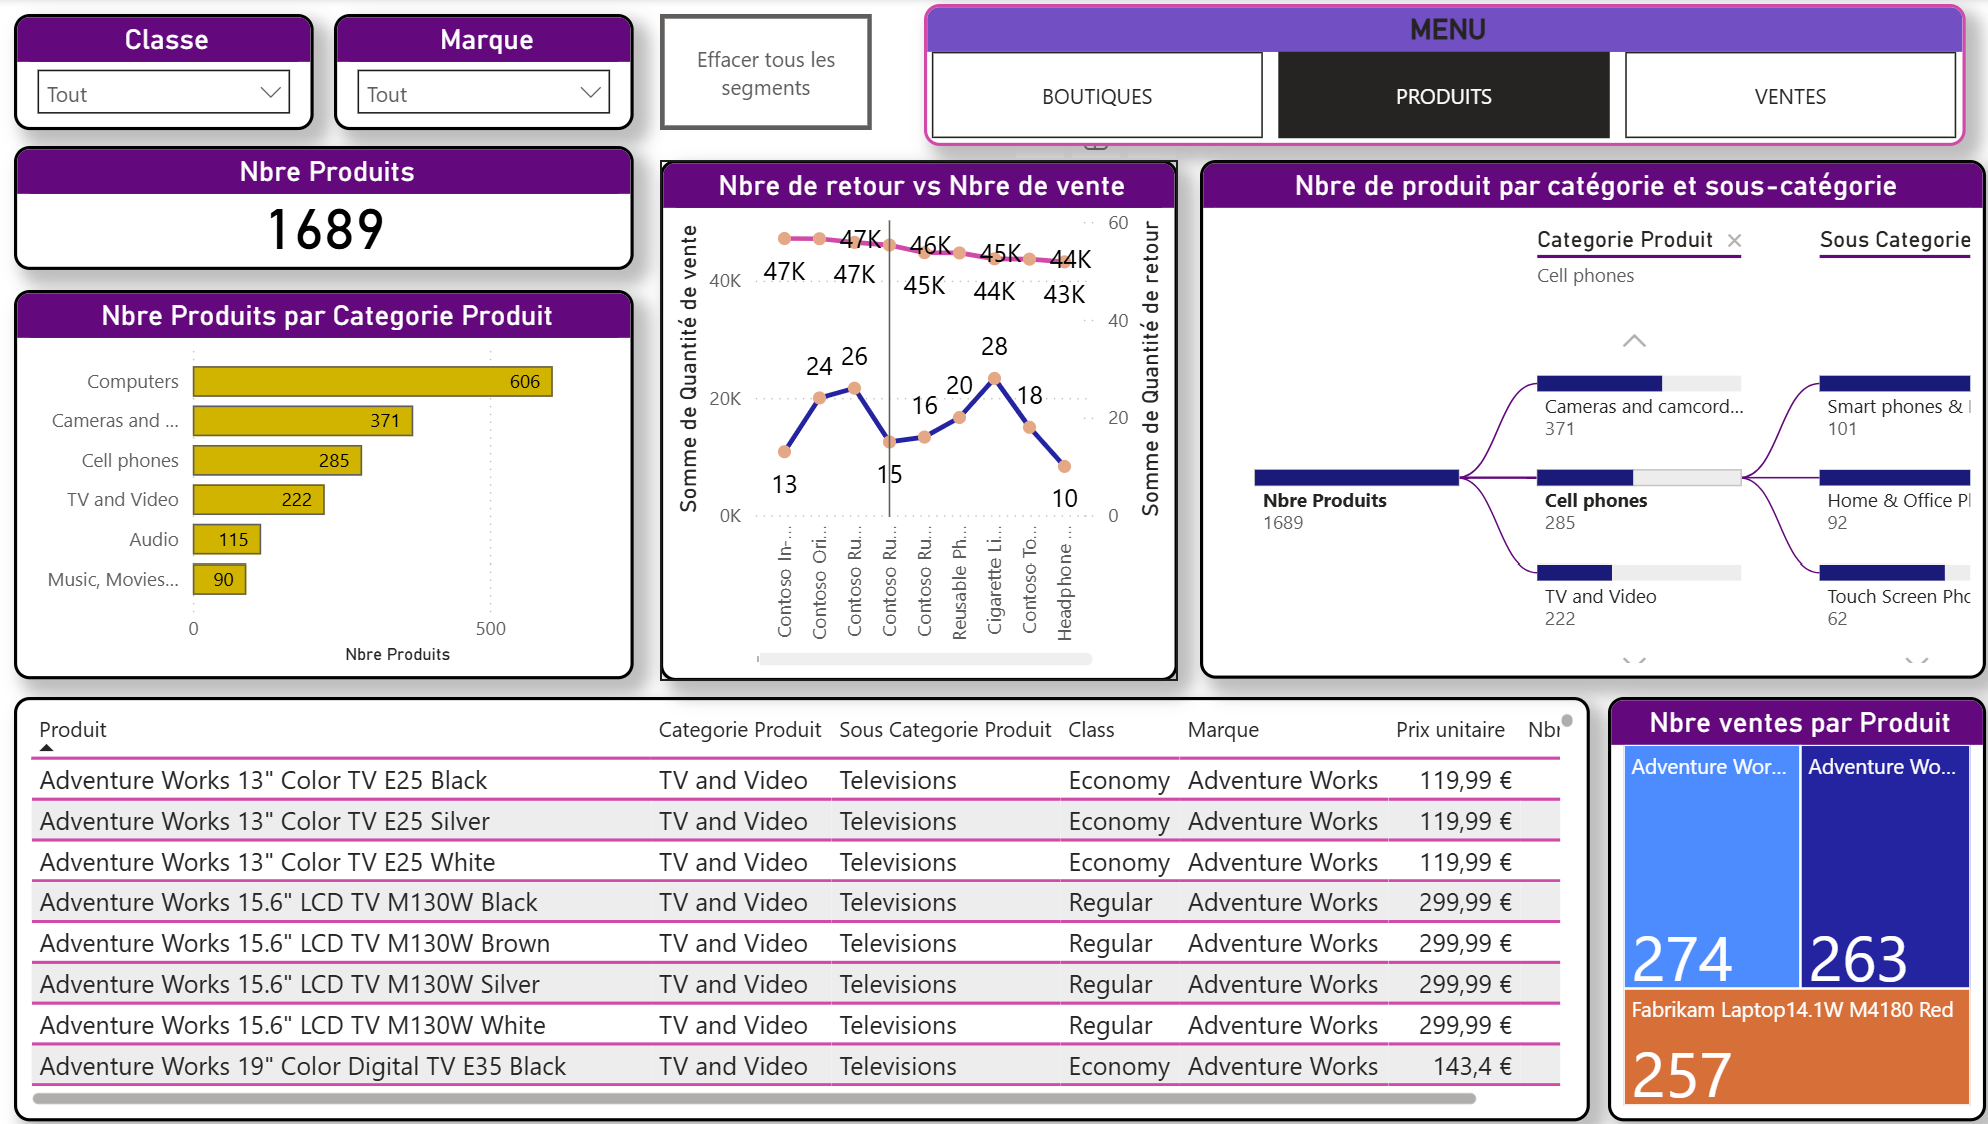

The dashboard page shown, as its layout file describes it:
{"tool":"powerbi","page":{"name":"PRODUITS","canvas":[1280,720],"ordinal":1},"visuals":[{"type":"slicer","title":"Classe","fields":{"Values":["Produits.Class"]},"box":[8.9,10.2,191.2,73.9],"z":0},{"type":"slicer","title":"Marque","fields":{"Values":["Produits.Marque"]},"box":[212.9,10.2,191.2,73.9],"z":1000},{"type":"card","title":"Nbre Produits","fields":{"Values":["Produits.Nbre Produits"]},"box":[8.9,94.3,395.2,79],"z":2000},{"type":"barChart","fields":{"Category":["Categorie Produits.Categorie Produit"],"Y":["Produits.Nbre Produits"]},"box":[8.9,186.1,395.2,247.3],"z":3000},{"type":"tableEx","fields":{"Values":["Produits.Produit","Categorie Produits.Categorie Produit","Sous Categories Produits.Sous Categorie Produit","Produits.Class","Produits.Marque","Produits.Prix unitaire","Sales.Nbre ventes"]},"box":[8.9,444.9,1004.6,270.3],"z":4000},{"type":"lineChart","title":"Nbre de retour vs Nbre de vente","fields":{"Category":["Produits.Produit"],"Y":["Sum(Sales.Quantité de vente)"],"Y2":["Sum(Sales.Quantité de retour)"]},"box":[420.7,103.3,330.2,331.5],"z":5000},{"type":"decompositionTreeVisual","title":"Nbre de produit par catégorie et sous-catégorie","fields":{"Analyze":["Produits.Nbre Produits"],"ExplainBy":["Categorie Produits.Categorie Produit","Sous Categories Produits.Sous Categorie Produit"]},"box":[764.9,103.3,501,330.2],"z":6000},{"type":"treemap","fields":{"Group":["Produits.Produit"],"Values":["Sales.Nbre ventes"]},"box":[1025,444.9,241,270.3],"z":7000},{"type":"actionButton","box":[420.7,10.2,135.1,73.9],"z":8000},{"type":"pageNavigator","title":"MENU","box":[589,3.8,664.2,90.5],"z":8001}]}

Visuals, with their boxes in screenshot pixels (x1, y1, x2, y2), scaled from the page's 1280x720 canvas onto the 1988x1124 screenshot:
"Classe" slicer: left=14, top=16, right=311, bottom=131
"Marque" slicer: left=331, top=16, right=628, bottom=131
"Nbre Produits" card: left=14, top=147, right=628, bottom=271
barChart - Categorie Produits.Categorie Produit x Produits.Nbre Produits: left=14, top=291, right=628, bottom=677
tableEx - Produits.Produit x Categorie Produits.Categorie Produit: left=14, top=695, right=1574, bottom=1117
"Nbre de retour vs Nbre de vente" lineChart: left=653, top=161, right=1166, bottom=679
"Nbre de produit par catégorie et sous-catégorie" decompositionTreeVisual: left=1188, top=161, right=1966, bottom=677
treemap - Produits.Produit x Sales.Nbre ventes: left=1592, top=695, right=1966, bottom=1117
actionButton: left=653, top=16, right=863, bottom=131
"MENU" pageNavigator: left=915, top=6, right=1946, bottom=147
